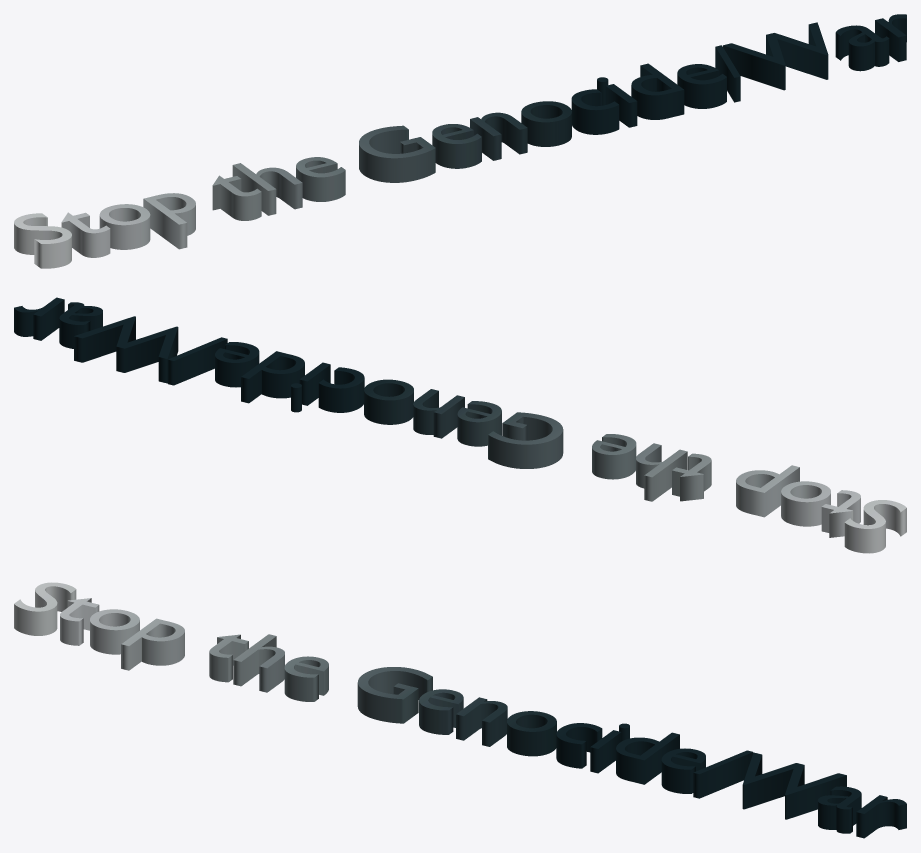
3 renders of one model, top to bottom at view 1: azimuth 30°, elevation 25°; view 2: azimuth 150°, elevation 25°; view 3: azimuth 330°, elevation 25°, orthographic.
Visible parts, largest first — view 1: 文字.012; view 2: 文字.012; view 3: 文字.012.
Boxes of the visible parts, box(x1,y1,x2,y2) form: 文字.012: box(14, 14, 906, 268); 文字.012: box(14, 297, 906, 553); 文字.012: box(14, 582, 906, 838).
Size of the model in its own units: 9.74 by 0.26 by 0.921.
Materials: 1 (1 with a texture image).
